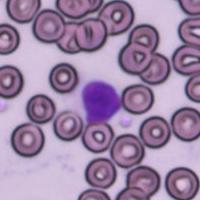L: (72, 75, 123, 125)
